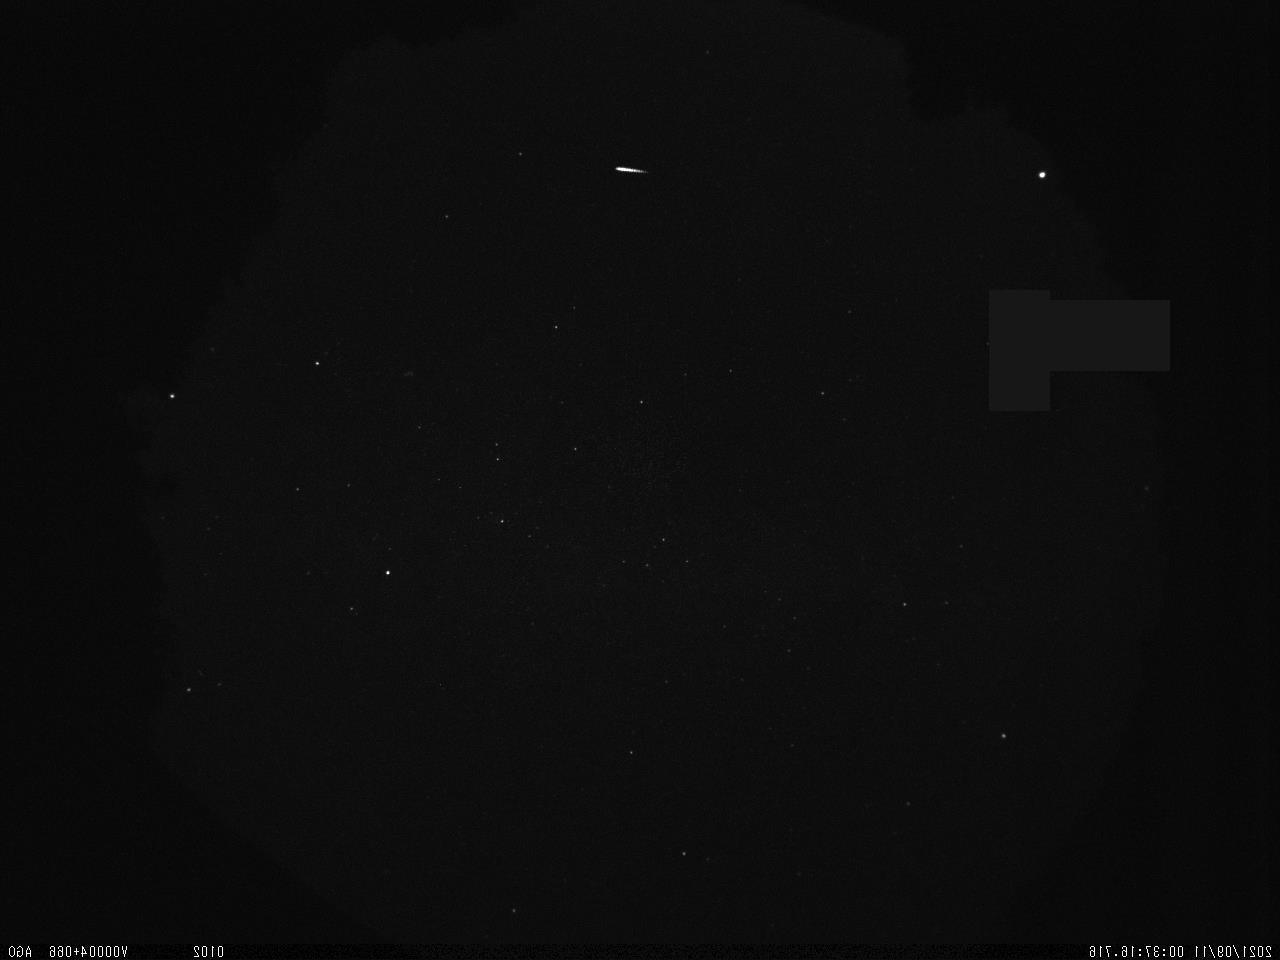meteor: (576, 150, 668, 197)
